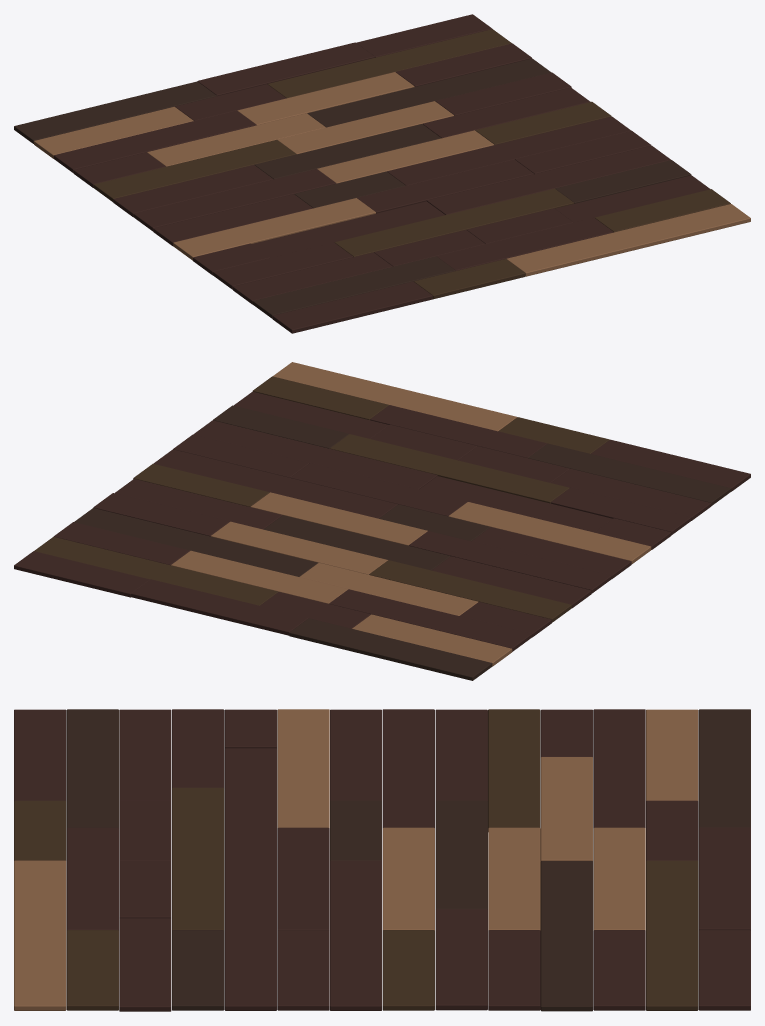
File: suelo1.fbx
3 renders of one model, top to bottom at view 1: azimuth 30°, elevation 25°; view 2: azimuth 150°, elevation 25°; view 3: azimuth 270°, elevation 25°, orthographic. The views are drawn at different scales.
Visible parts, largest first — view 1: Suelo.001; view 2: Suelo.001; view 3: Suelo.001.
Boxes of the visible parts, left/top/right/bottom form: Suelo.001: left=14, top=14, right=750, bottom=333; Suelo.001: left=14, top=362, right=750, bottom=680; Suelo.001: left=14, top=709, right=750, bottom=1011.
Bounding box in the file's own units: 321 × 27.86 × 338.
